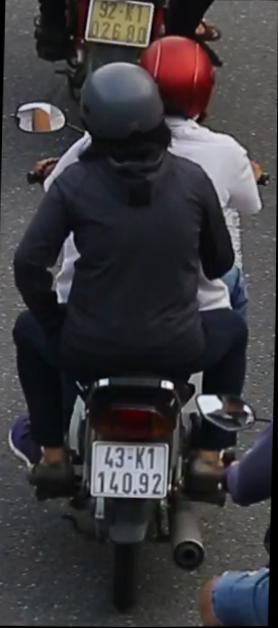LP: (90, 436, 174, 505), (83, 0, 156, 49)
helmet: (74, 62, 174, 176)
